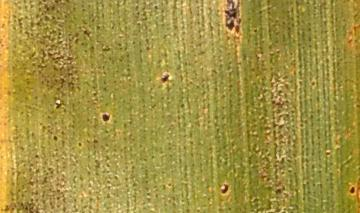tarspot: (223, 1, 244, 38), (219, 181, 231, 197), (100, 111, 112, 123), (159, 71, 169, 84), (348, 184, 356, 198), (51, 133, 59, 144)
